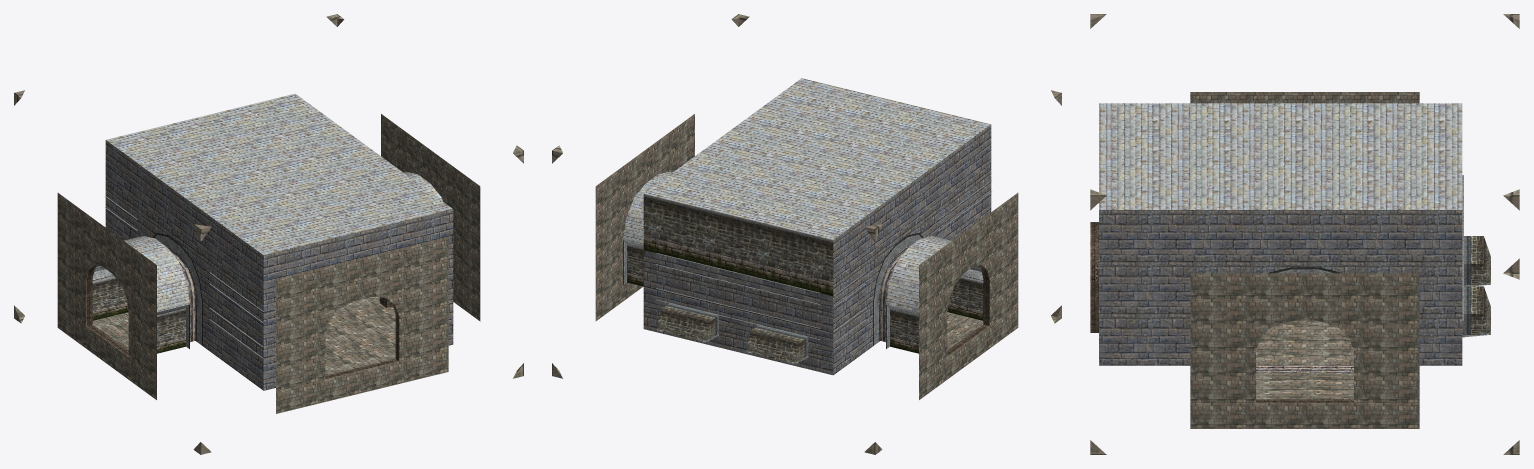
File: lbg_3e.glb
The picture shows the model from 3 angles, left to right: view 1: azimuth 30°, elevation 25°; view 2: azimuth 150°, elevation 25°; view 3: azimuth 270°, elevation 25°; orthographic projection. The views are drawn at different scales.
Parts seen in each view (by area): view 1: lbg_3e; view 2: lbg_3e; view 3: lbg_3e.
Boxes of the visible parts, box(x1,y1,x2,y2) form: lbg_3e: box(14, 14, 523, 454); lbg_3e: box(552, 14, 1061, 454); lbg_3e: box(1090, 14, 1519, 454).
Bounding box in the file's own units: 15 × 10 × 15.
Materials: 8 (8 with a texture image).
